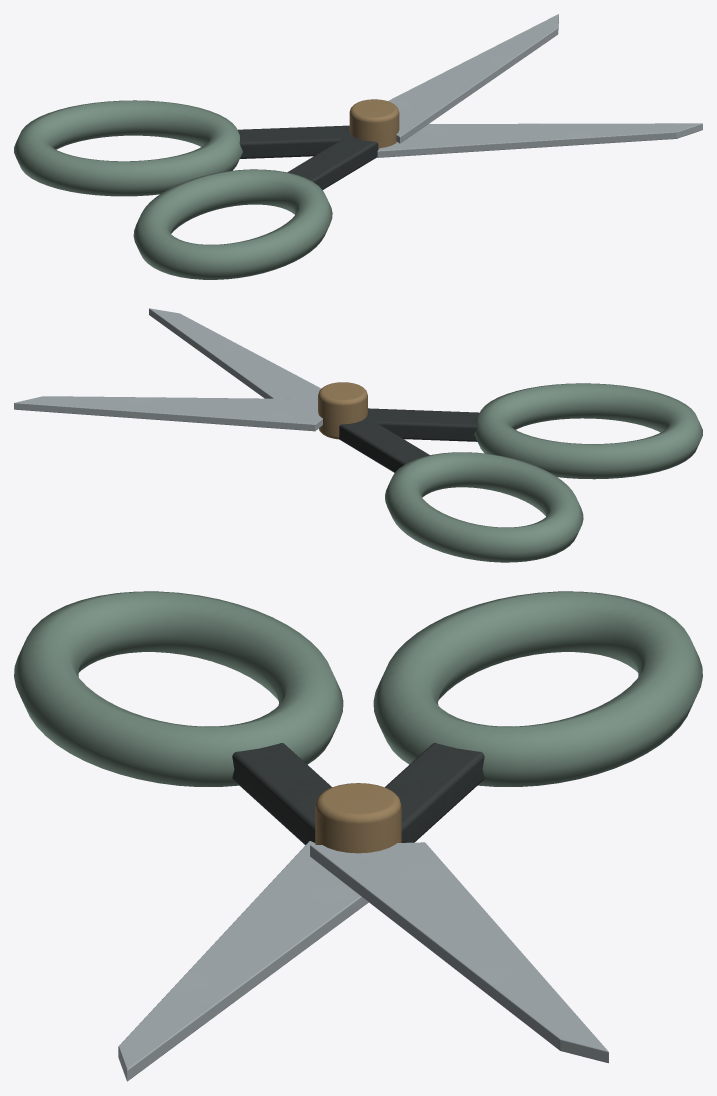
File: scissors.glb
The picture shows the model from 3 angles, top to bottom: view 1: azimuth 30°, elevation 25°; view 2: azimuth 150°, elevation 25°; view 3: azimuth 270°, elevation 25°; orthographic projection. The views are drawn at different scales.
Visible parts, largest first — view 1: Open finger grip, Open finger grip.001, Tapered cutting blade, Tapered cutting blade.001, Scissor handle tang, Scissor handle tang.001, Scissors central pivot; view 2: Open finger grip.001, Open finger grip, Tapered cutting blade.001, Tapered cutting blade, Scissor handle tang.001, Scissor handle tang, Scissors central pivot; view 3: Open finger grip, Open finger grip.001, Tapered cutting blade.001, Tapered cutting blade, Scissor handle tang.001, Scissor handle tang, Scissors central pivot.
Part boxes in pixels (x1=…): Open finger grip: x1=14, y1=100, x2=242, y2=196; Open finger grip.001: x1=133, y1=169, x2=332, y2=279; Tapered cutting blade: x1=377, y1=123, x2=702, y2=157; Tapered cutting blade.001: x1=388, y1=14, x2=558, y2=143; Scissor handle tang: x1=237, y1=125, x2=350, y2=158; Scissor handle tang.001: x1=287, y1=134, x2=378, y2=189; Scissors central pivot: x1=349, y1=99, x2=399, y2=149; Open finger grip.001: x1=474, y1=383, x2=702, y2=479; Open finger grip: x1=385, y1=452, x2=583, y2=562; Tapered cutting blade.001: x1=14, y1=396, x2=322, y2=431; Tapered cutting blade: x1=149, y1=308, x2=321, y2=398; Scissor handle tang.001: x1=363, y1=408, x2=479, y2=441; Scissor handle tang: x1=339, y1=420, x2=429, y2=472; Scissors central pivot: x1=318, y1=382, x2=367, y2=439; Open finger grip: x1=373, y1=591, x2=702, y2=786; Open finger grip.001: x1=14, y1=591, x2=343, y2=786; Tapered cutting blade.001: x1=310, y1=842, x2=608, y2=1063; Tapered cutting blade: x1=118, y1=841, x2=368, y2=1081; Scissor handle tang.001: x1=232, y1=743, x2=331, y2=844; Scissor handle tang: x1=385, y1=743, x2=484, y2=842; Scissors central pivot: x1=315, y1=783, x2=401, y2=853.
Bounding box in the file's own units: 0.2041 × 0.017 × 0.128.
4 materials, 4 textured.
